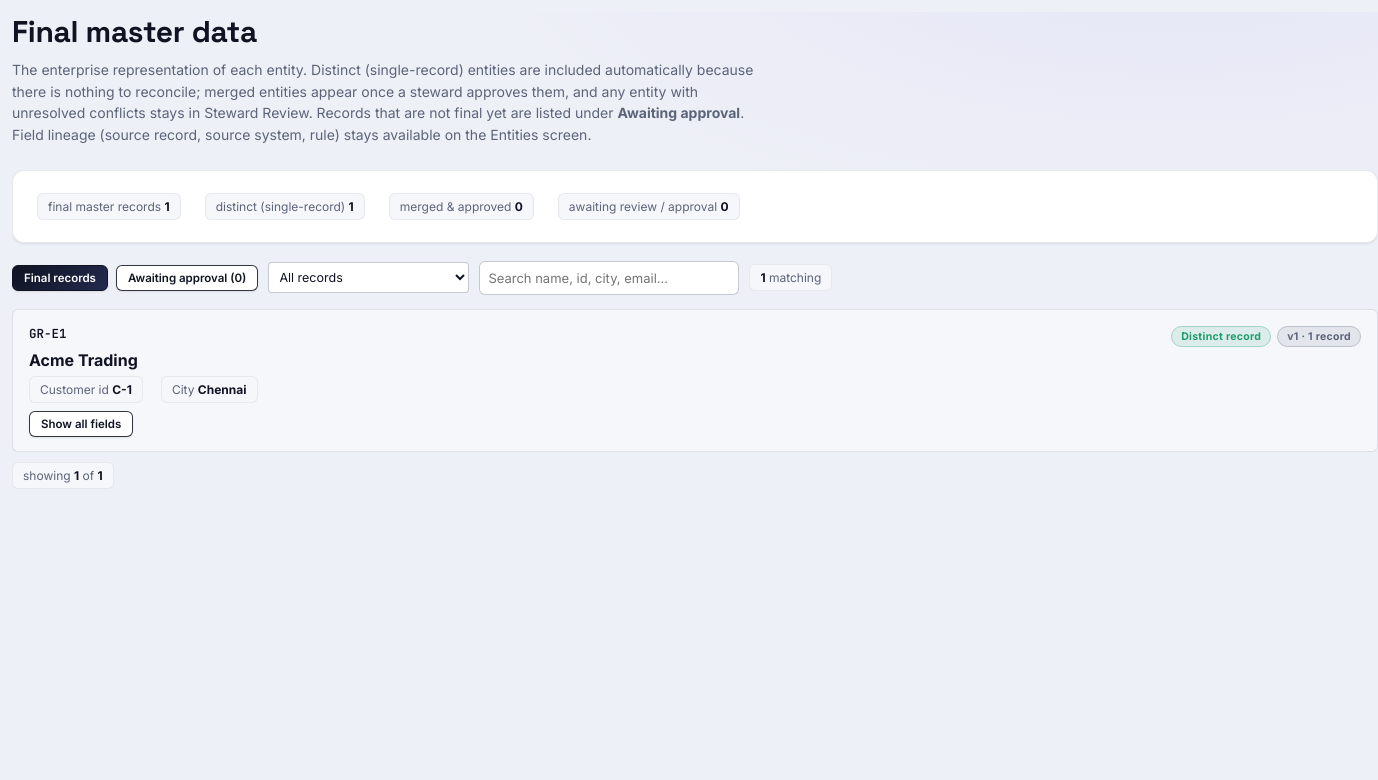
Scenario: Journey T: reprofiling shows only FIXED, ordered record fields, labels for training › T2: Master Data card shows name + key fields and all fields in schema order
The image size is (1378, 780).
Expected: the text "GR-E1" is shown, [29,325,66,342]
Expected: the text "Acme Trading" is shown, [29,350,138,370]
Click the button "Show all fields": (81, 424) [29,411,133,437]
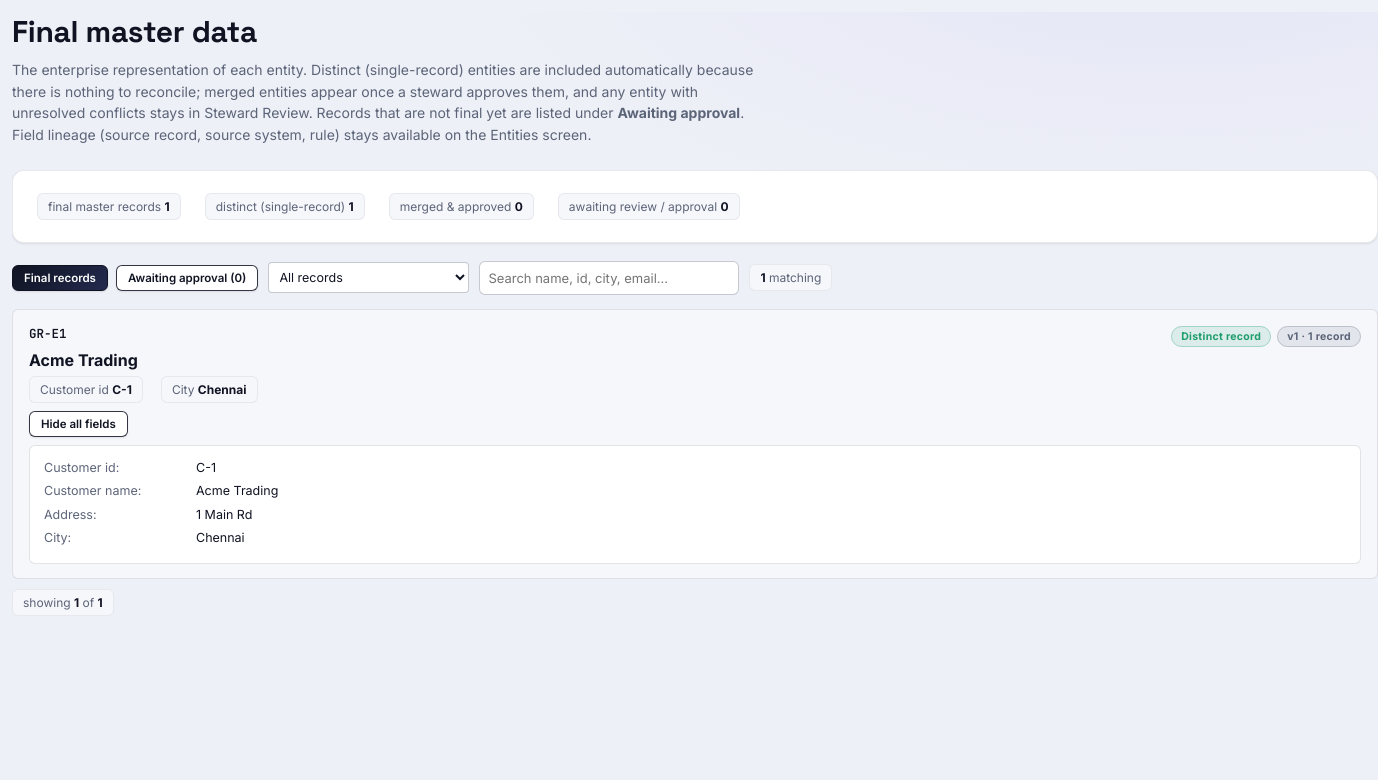
Expected: the number of elements with class "kv-row" is 4, [44,460,216,475]; [44,483,278,498]; [44,506,252,522]; [44,530,245,545]
